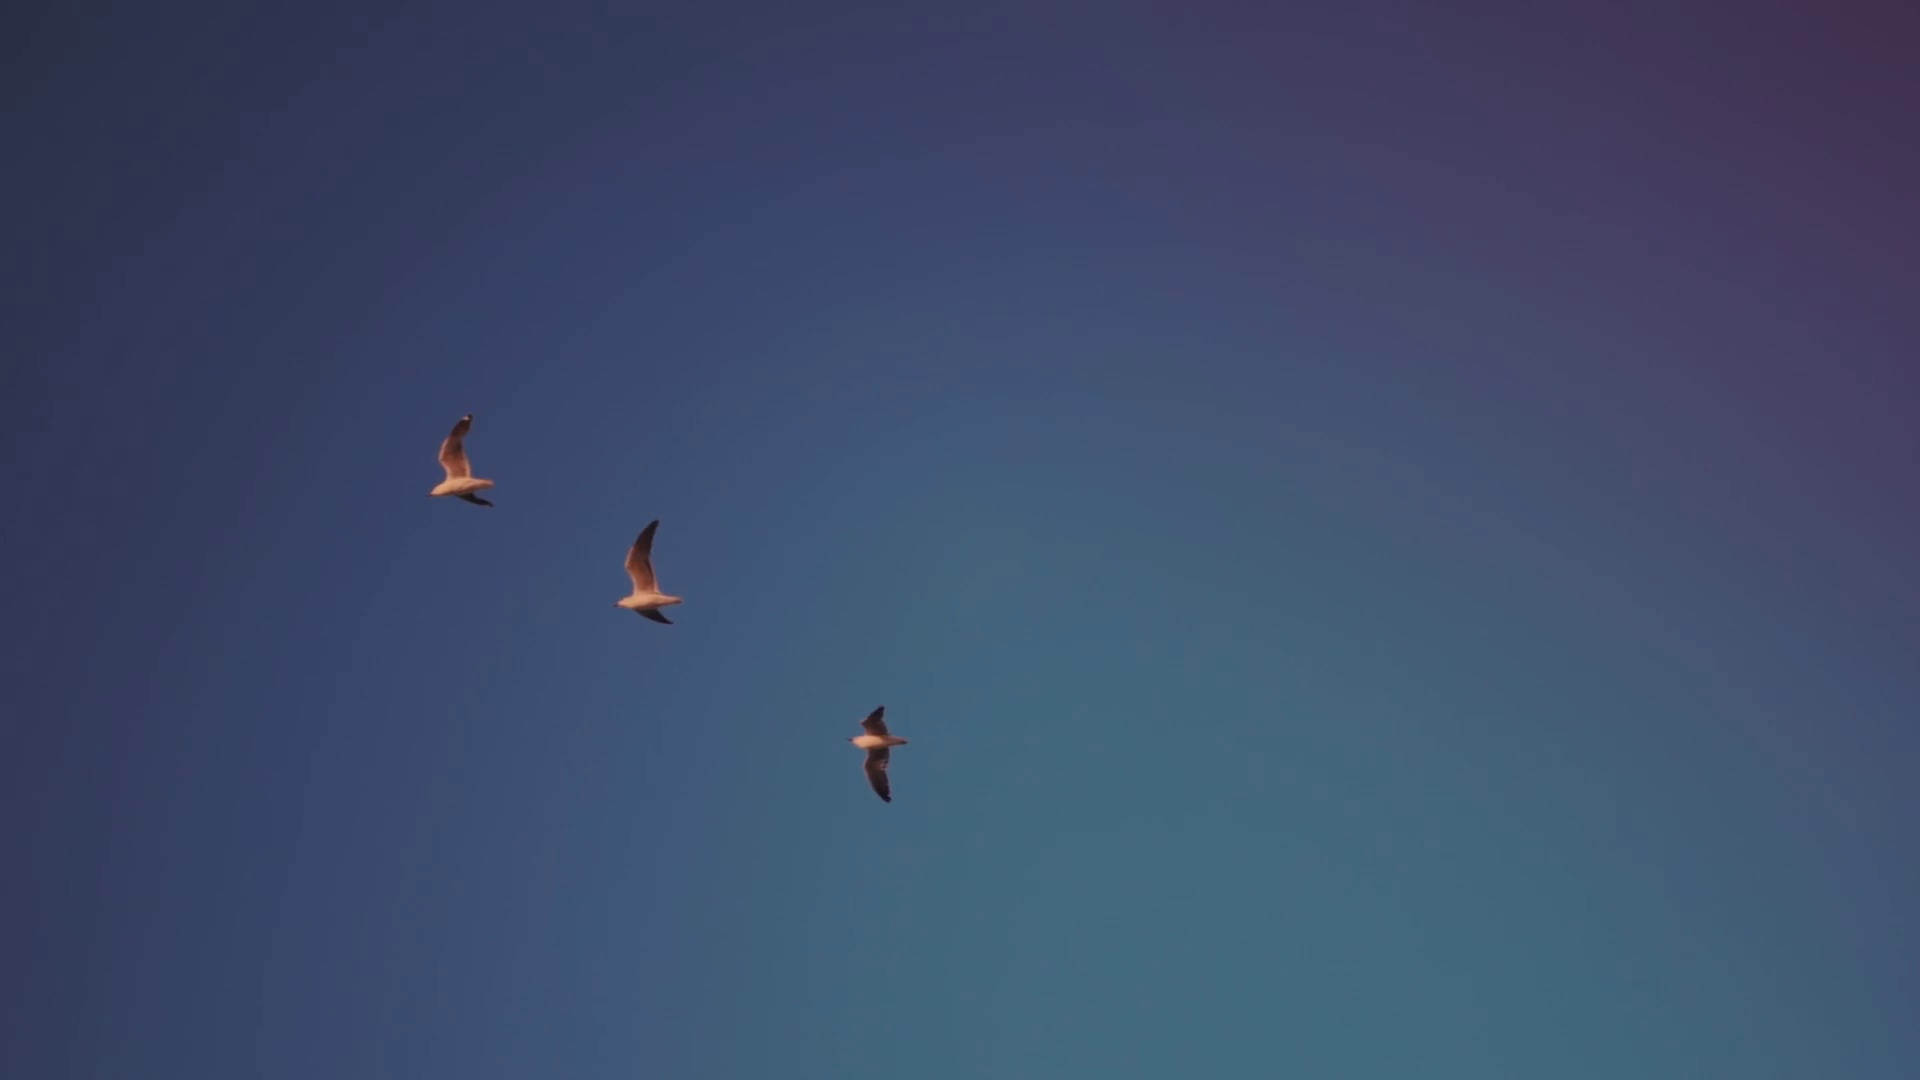bird: (613, 518, 682, 626), (429, 413, 498, 508), (849, 702, 907, 800)
